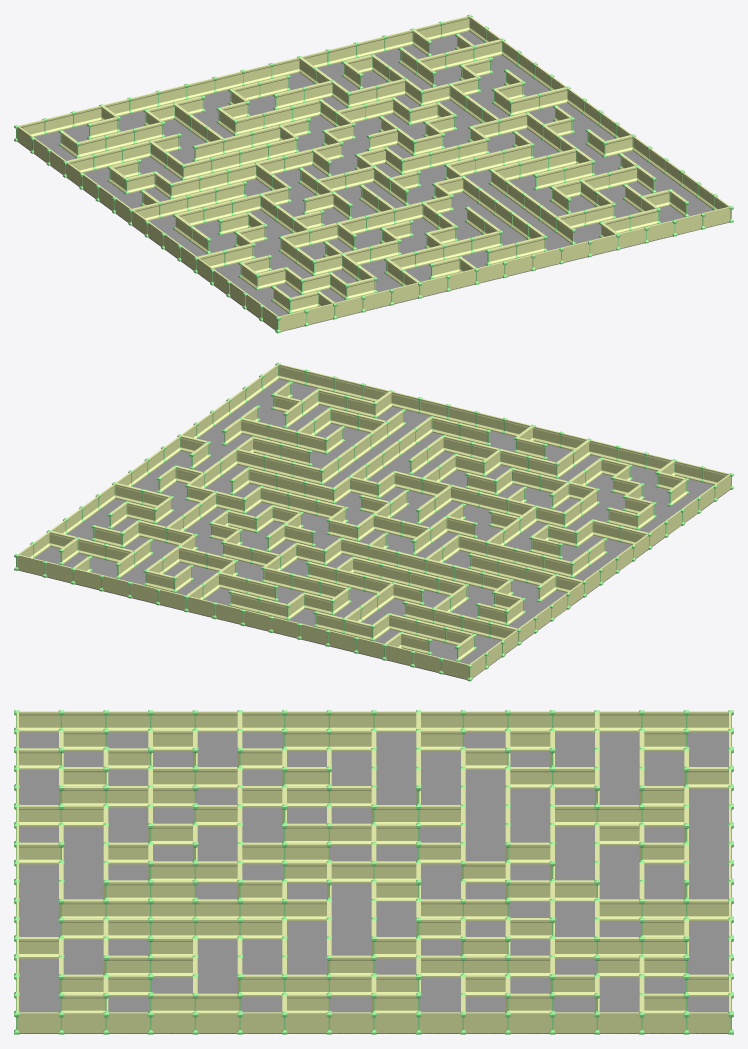
The model's file is Maze16x16.fbx.
3 renders of one model, top to bottom at view 1: azimuth 30°, elevation 25°; view 2: azimuth 150°, elevation 25°; view 3: azimuth 270°, elevation 25°, orthographic. The views are drawn at different scales.
Parts seen in each view (by area): view 1: no part large enough to name; view 2: no part large enough to name; view 3: WallPrefab_Clone___323_, WallPrefab_Clone___191_, WallPrefab_Clone___447_, WallPrefab_Clone___52_, WallPrefab_Clone___131_, WallPrefab_Clone___256_, WallPrefab_Clone___48_, WallPrefab_Clone___143_, WallPrefab_Clone_, WallPrefab_Clone___128_, WallPrefab_Clone___94_, WallPrefab_Clone___192_ (+260 smaller).
Boxes of the visible parts, x1,y1,x2,y2 form: WallPrefab_Clone___323_: [240, 975, 283, 996]; WallPrefab_Clone___191_: [464, 711, 507, 732]; WallPrefab_Clone___447_: [106, 711, 149, 732]; WallPrefab_Clone___52_: [642, 805, 684, 826]; WallPrefab_Clone___131_: [508, 956, 550, 977]; WallPrefab_Clone___256_: [374, 711, 416, 732]; WallPrefab_Clone___48_: [642, 843, 684, 864]; WallPrefab_Clone___143_: [508, 843, 550, 864]; WallPrefab_Clone_: [687, 1012, 730, 1033]; WallPrefab_Clone___128_: [508, 1012, 551, 1033]; WallPrefab_Clone___94_: [599, 711, 641, 732]; WallPrefab_Clone___192_: [419, 1012, 462, 1033].
Bounding box in the file's own units: 6450 × 215 × 6450.
